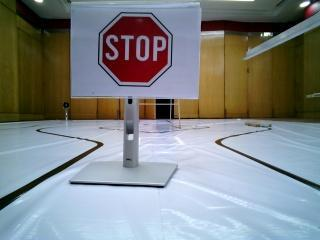stop: (79, 8, 180, 96)
